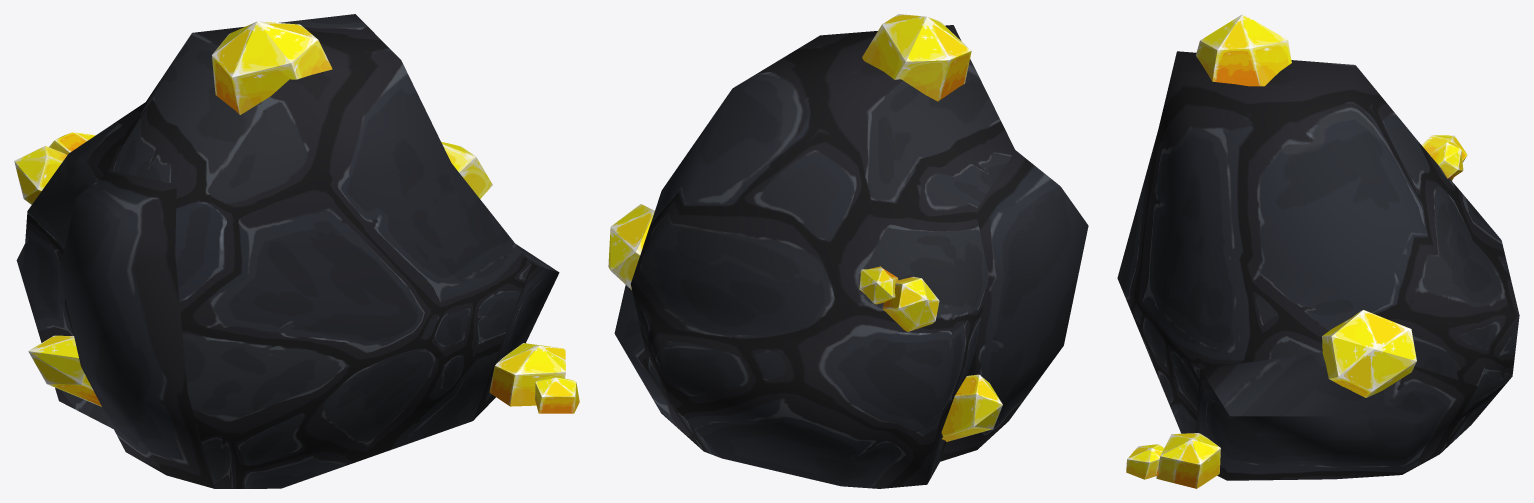
Rendered from SM_PROP_orevein_gold_dungeon.fbx.
The picture shows the model from 3 angles, left to right: view 1: azimuth 30°, elevation 25°; view 2: azimuth 150°, elevation 25°; view 3: azimuth 270°, elevation 25°; orthographic projection. The views are drawn at different scales.
Visible parts, largest first — view 1: SM_PROP_orevein_gold_dungeon; view 2: SM_PROP_orevein_gold_dungeon; view 3: SM_PROP_orevein_gold_dungeon.
Boxes of the visible parts, x1,y1,x2,y2 form: SM_PROP_orevein_gold_dungeon: (14, 14, 579, 488); SM_PROP_orevein_gold_dungeon: (608, 14, 1088, 488); SM_PROP_orevein_gold_dungeon: (1117, 14, 1519, 488).
Bounding box in the file's own units: 79.7 × 73.26 × 69.09.
